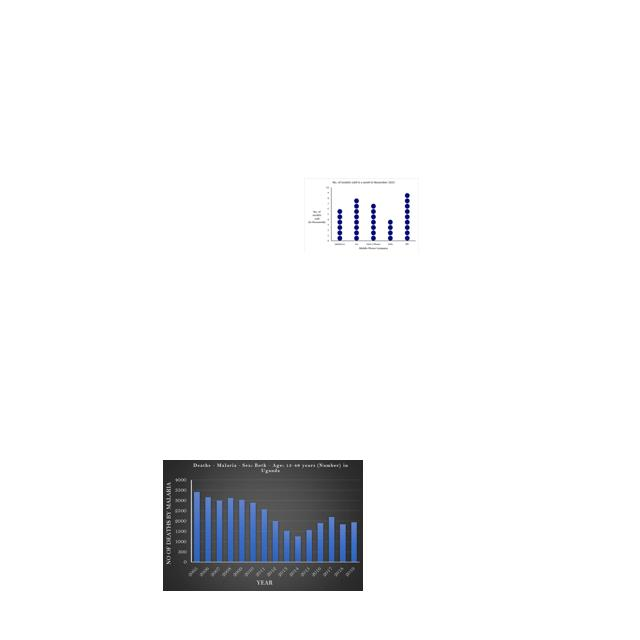Graph: (163, 460, 363, 591), (304, 178, 419, 253)
